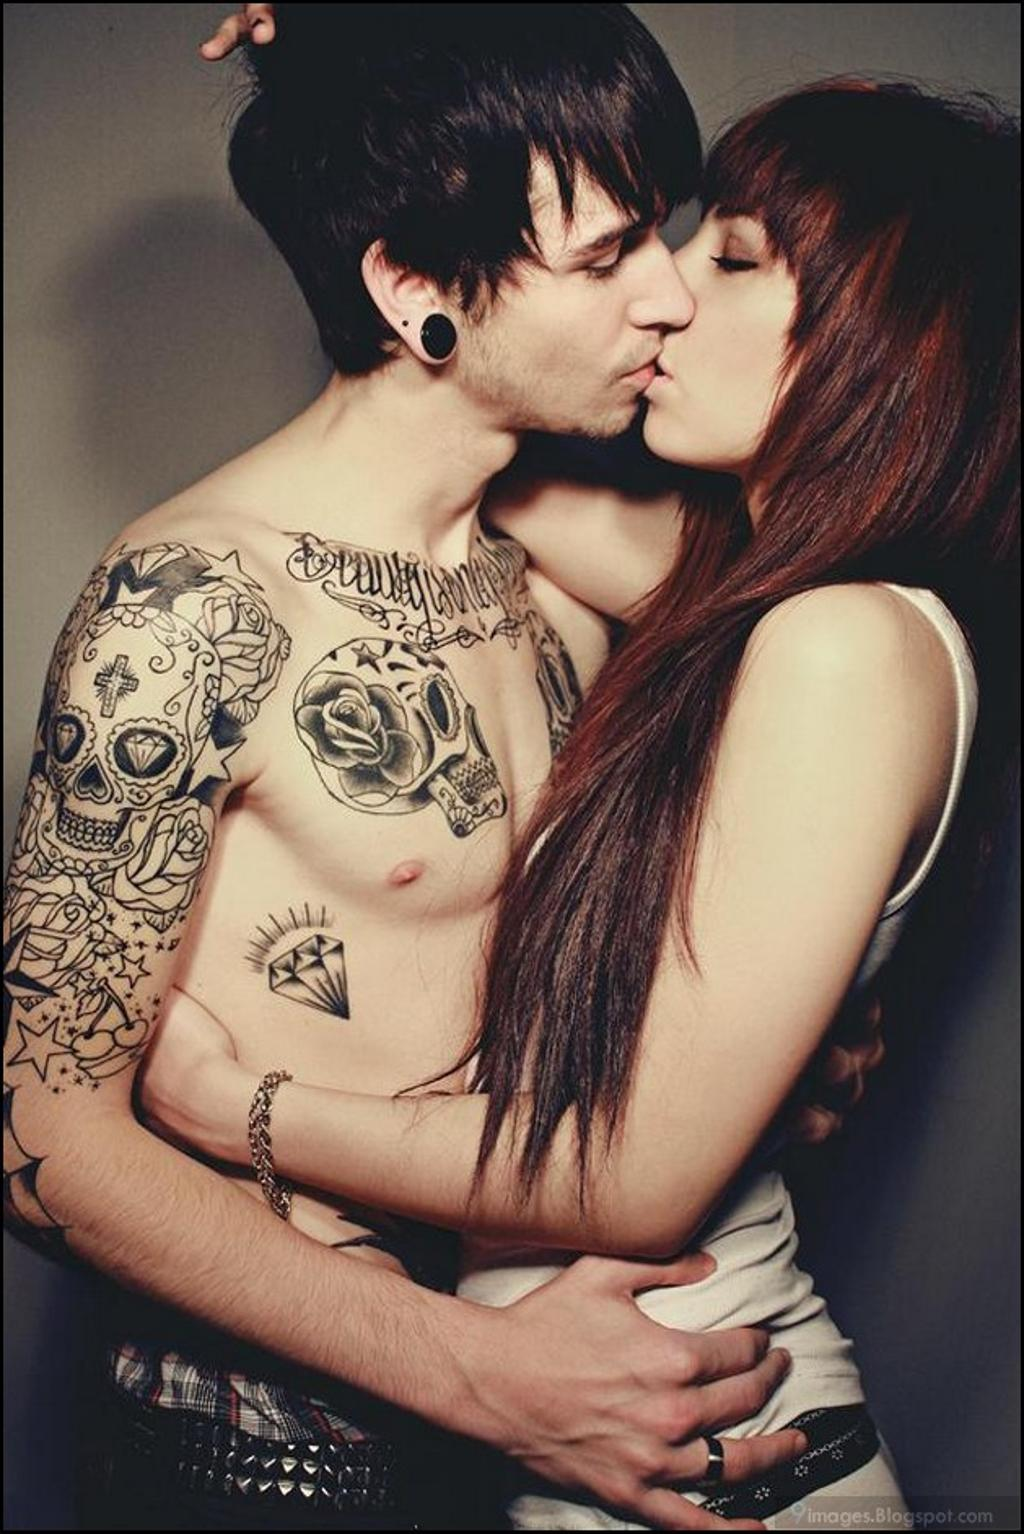face: (644, 96, 896, 455), (461, 84, 695, 437)
